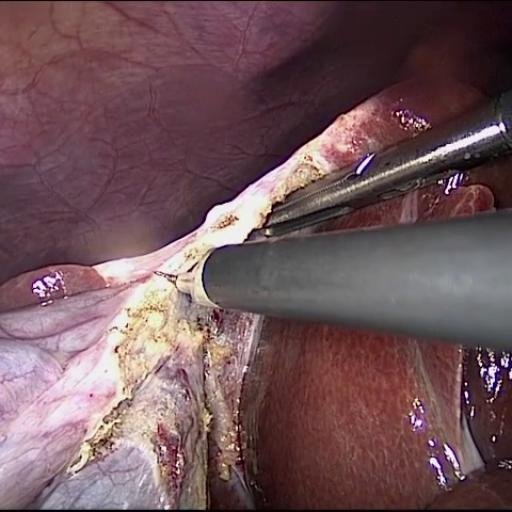Grasper: (240, 88, 512, 244)
Hook: (156, 226, 251, 324)
